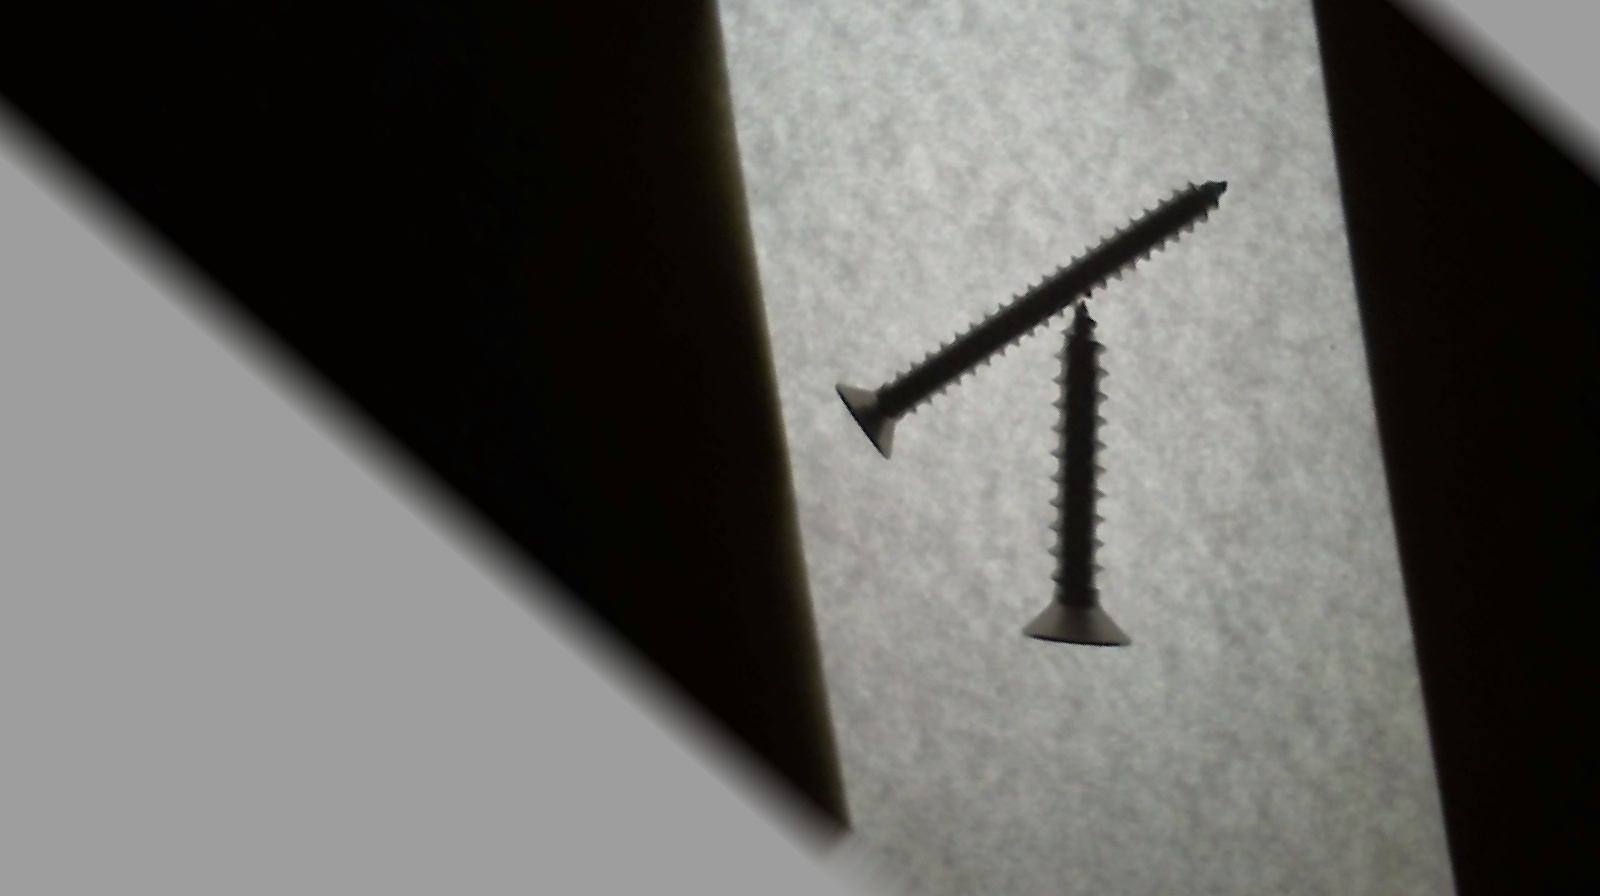S001: (880, 288, 1288, 709)
S002: (812, 62, 1245, 533)
